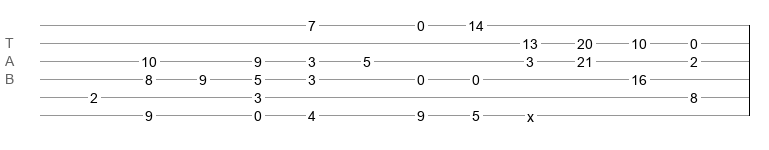0: (254, 108, 262, 118), (417, 18, 425, 28), (417, 72, 425, 82), (472, 72, 480, 82), (690, 36, 698, 46)
10: (141, 54, 157, 64), (631, 36, 647, 46)
13: (522, 36, 538, 46)
14: (468, 18, 484, 28)
16: (631, 72, 647, 82)
2: (90, 90, 98, 100), (690, 54, 698, 64)
20: (577, 36, 593, 46)
21: (577, 54, 593, 64)
3: (254, 90, 262, 100), (308, 54, 316, 64), (308, 72, 316, 82), (526, 54, 534, 64)
4: (308, 108, 316, 118)
5: (254, 72, 262, 82), (363, 54, 371, 64), (472, 108, 480, 118)
7: (308, 18, 316, 28)
8: (145, 72, 153, 82), (690, 90, 698, 100)
9: (145, 108, 153, 118), (199, 72, 207, 82), (254, 54, 262, 64), (417, 108, 425, 118)
x: (527, 109, 534, 117)
